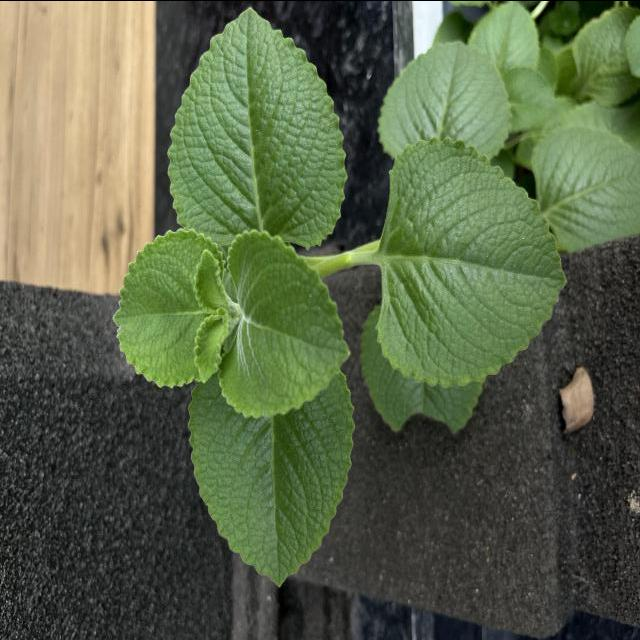Plectranthus barbatus: (375, 135, 570, 389), (165, 3, 350, 250), (188, 376, 358, 588), (218, 228, 354, 422), (111, 225, 227, 390), (376, 39, 512, 162), (530, 124, 640, 248)
